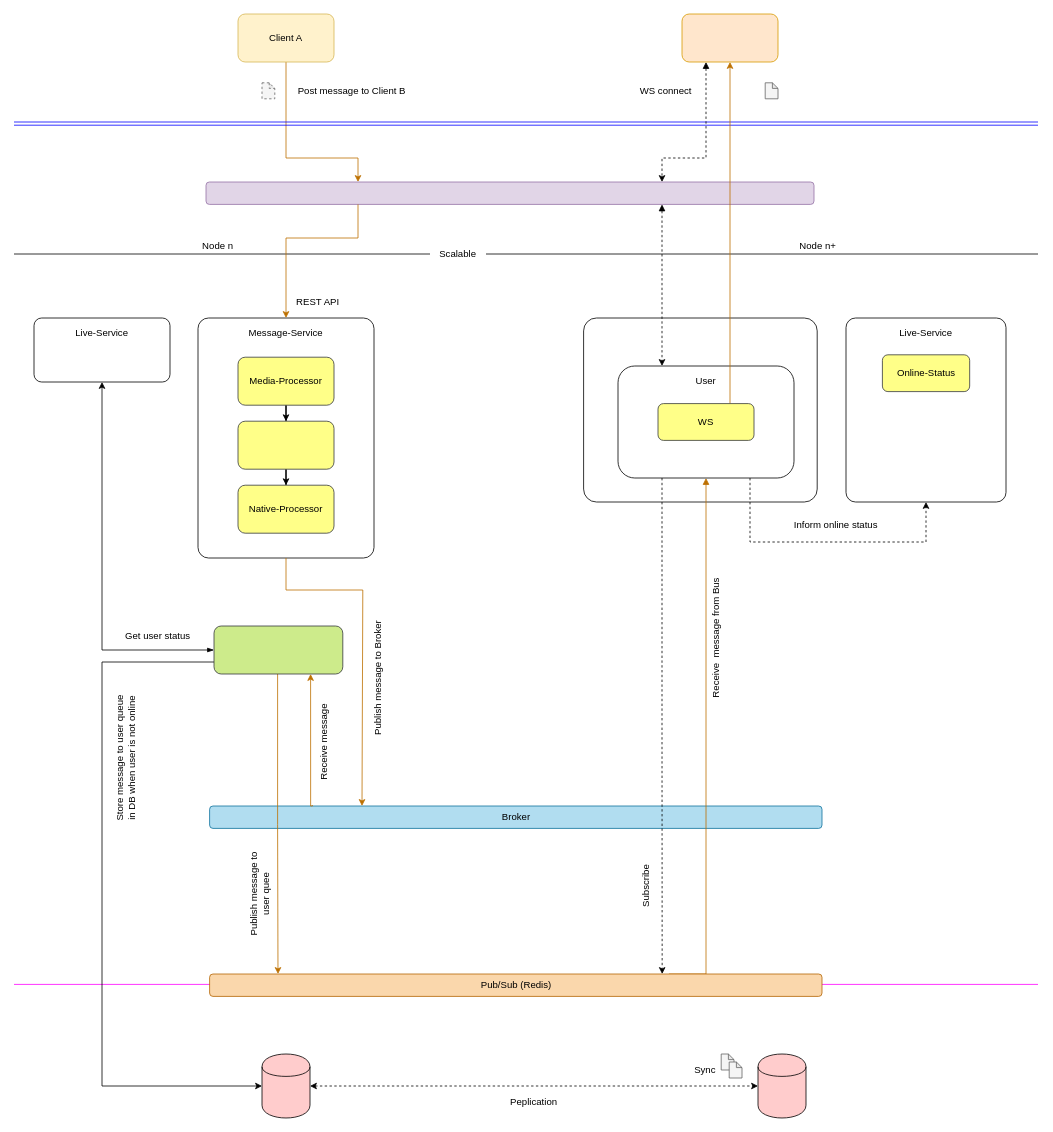
This 1053x1132 diagram has some shape labels left out. Each missing label, with the box of its shape:
Client B: (681, 13, 778, 62)
Conversation-Service: (213, 625, 343, 674)
Emoji-Processor: (237, 420, 334, 469)
Gateway (load balancing): (205, 181, 814, 204)
User-Service: (583, 317, 817, 502)
